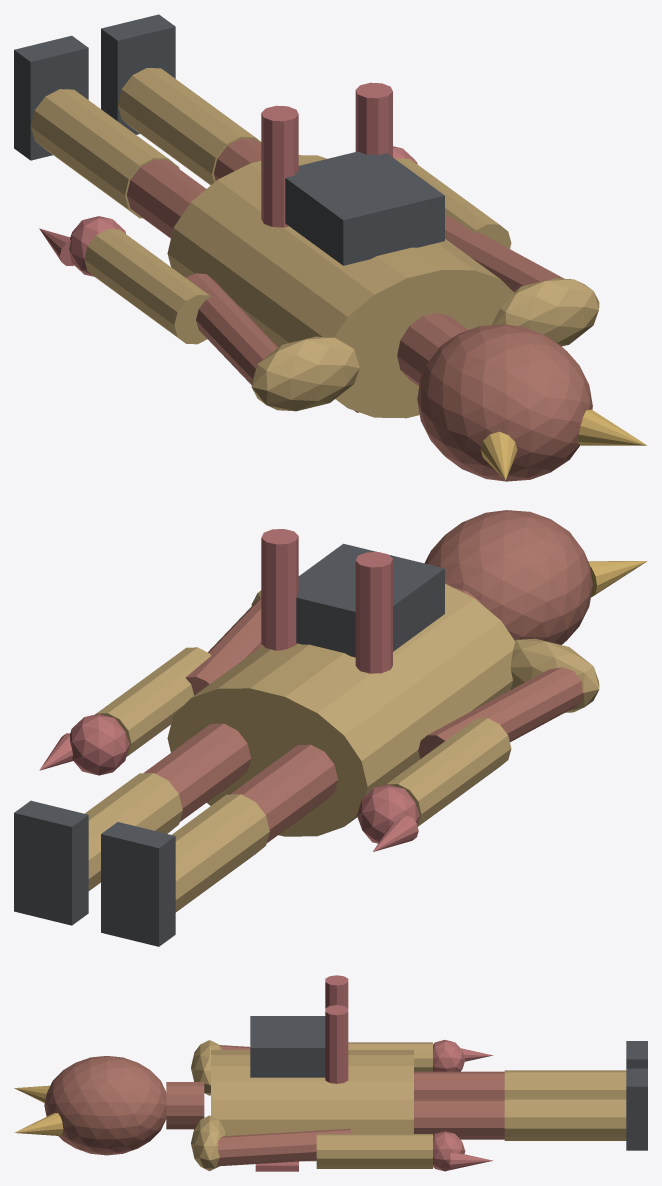
The model's file is SWN-021_ardak_pell.glb.
3 views of the same model, one above another, from view 1: azimuth 30°, elevation 25°; view 2: azimuth 150°, elevation 25°; view 3: azimuth 270°, elevation 25° (orthographic). The views are drawn at different scales.
Parts seen in each view (by area): view 1: body_spine, head, back_thruster_pack, greave_-1, greave_1, forearm_gauntlet_-1, shoulder_plate_-1, boot_-1, boot_1, shoulder_plate_1, upper_arm_-1, aether_thruster_-1 (+9 smaller); view 2: body_spine, head, back_thruster_pack, boot_1, boot_-1, greave_-1, forearm_gauntlet_-1, thigh_-1, thigh_1, upper_arm_-1, forearm_gauntlet_1, greave_1 (+9 smaller); view 3: body_spine, head, greave_1, back_thruster_pack, forearm_gauntlet_1, thigh_1, greave_-1, upper_arm_1, thigh_-1, aether_thruster_1, boot_1, neck (+11 smaller).
Part boxes in pixels (<box>): body_spine: <box>167,155,514,418</box>; head: <box>417,324,592,481</box>; back_thruster_pack: <box>285,151,444,265</box>; greave_-1: <box>30,89,179,218</box>; greave_1: <box>117,68,261,185</box>; forearm_gauntlet_-1: <box>84,229,210,344</box>; shoulder_plate_-1: <box>251,336,360,411</box>; boot_-1: <box>14,35,88,160</box>; boot_1: <box>101,14,175,134</box>; shoulder_plate_1: <box>492,278,599,346</box>; upper_arm_-1: <box>186,273,278,384</box>; aether_thruster_-1: <box>261,105,298,227</box>; body_spine: <box>167,583,515,836</box>; head: <box>424,510,592,644</box>; back_thruster_pack: <box>296,543,444,657</box>; boot_1: <box>14,800,88,925</box>; boot_-1: <box>101,822,175,946</box>; greave_-1: <box>172,794,269,912</box>; forearm_gauntlet_-1: <box>385,718,511,826</box>; thigh_-1: <box>230,744,337,842</box>; thigh_1: <box>143,723,250,821</box>; upper_arm_-1: <box>418,667,582,758</box>; forearm_gauntlet_1: <box>95,647,211,756</box>; greave_1: <box>84,773,182,890</box>; body_spine: <box>211,1050,413,1161</box>; head: <box>44,1056,166,1155</box>; greave_1: <box>504,1097,626,1140</box>; back_thruster_pack: <box>250,1016,325,1077</box>; forearm_gauntlet_1: <box>316,1134,432,1168</box>; thigh_1: <box>414,1099,504,1139</box>; greave_-1: <box>504,1070,626,1097</box>; upper_arm_1: <box>218,1128,351,1166</box>; thigh_-1: <box>414,1071,504,1098</box>; aether_thruster_1: <box>325,1005,348,1083</box>; boot_1: <box>626,1068,647,1150</box>; neck: <box>166,1082,204,1129</box>.
Size of the model in its own units: 0.99 by 0.6775 by 2.34.
